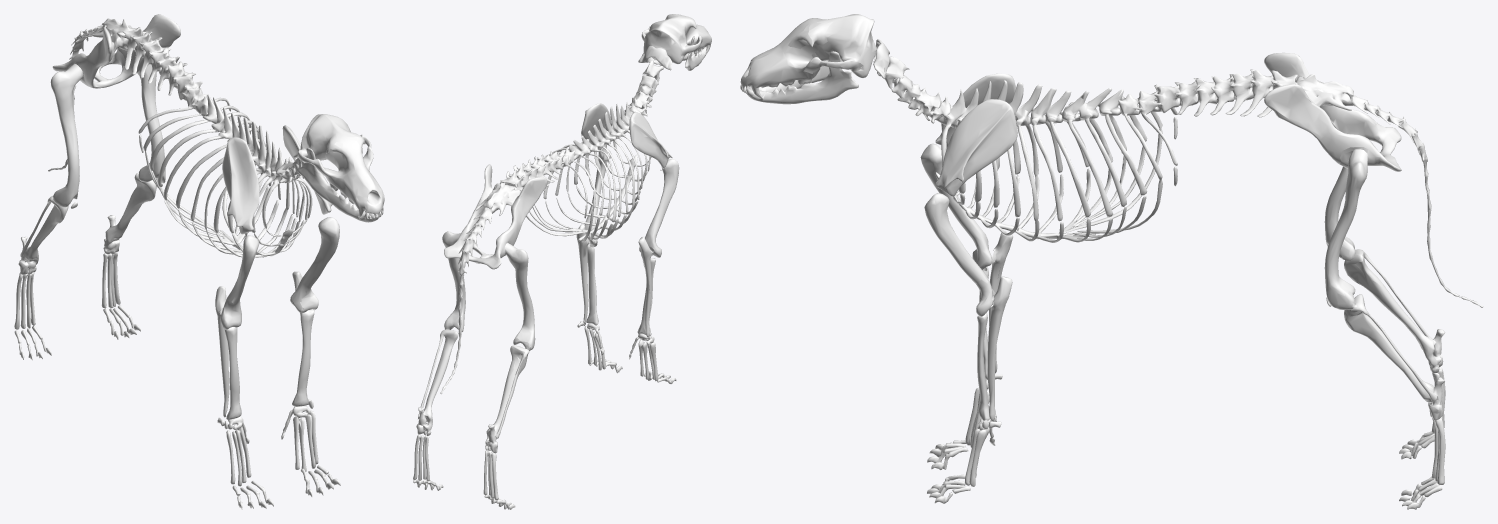
Rendered from Skeleton 1.glb.
The picture shows the model from 3 angles, left to right: view 1: azimuth 30°, elevation 25°; view 2: azimuth 150°, elevation 25°; view 3: azimuth 270°, elevation 25°; orthographic projection. The views are drawn at different scales.
Visible parts, largest first — view 1: Ribcage_and_Sternum, Cranium, Sacroiliac_Joint, Scapula_L, Thigh_Bone_Femur_L, Humerus_R, Thigh_Bone_Femur_R, Tibia_R, Humerus_L, Fibula_L, Radius_R, Radius_L (+8 smaller); view 2: Ribcage_and_Sternum, Sacroiliac_Joint, Cranium, Thigh_Bone_Femur_L, Tibia_R, Humerus_L, Scapula_L, Fibula_L, Sacrum, Thigh_Bone_Femur_R, Ulna_L, Radius_R (+7 smaller); view 3: Ribcage_and_Sternum, Cranium, Sacroiliac_Joint, Scapula_R, Thigh_Bone_Femur_R, Tibia_R, Fibula_L, Humerus_R, Humerus_L, Sacrum, Ulna_R, Scapula_L (+2 smaller).
Boxes of the visible parts, x1,y1,x2,y2 form: Ribcage_and_Sternum: (27,18,312,322); Cranium: (297,114,384,222); Sacroiliac_Joint: (52,14,180,88); Scapula_L: (222,137,259,234); Thigh_Bone_Femur_L: (50,63,83,207); Humerus_R: (290,217,339,312); Thigh_Bone_Femur_R: (137,64,165,183); Tibia_R: (37,172,157,254); Humerus_L: (220,235,259,329); Fibula_L: (18,196,68,274); Radius_R: (292,309,314,406); Radius_L: (224,327,241,419); Ribcage_and_Sternum: (427,75,658,485); Sacroiliac_Joint: (444,164,547,269); Cranium: (642,14,711,70); Thigh_Bone_Femur_L: (504,243,535,349); Tibia_R: (416,329,458,435); Humerus_L: (639,158,679,257); Scapula_L: (629,111,672,168); Fibula_L: (485,345,529,452); Sacrum: (440,207,491,394); Thigh_Bone_Femur_R: (442,231,465,331); Ulna_L: (638,236,653,337); Radius_R: (586,244,598,325); Ribcage_and_Sternum: (891,70,1483,485); Cranium: (740,14,876,104); Sacroiliac_Joint: (1264,52,1401,171); Scapula_R: (935,99,1017,196); Thigh_Bone_Femur_R: (1324,149,1368,307); Tibia_R: (1344,294,1444,419); Fibula_L: (1344,249,1444,372); Humerus_R: (924,193,995,314); Humerus_L: (920,143,992,269); Sacrum: (1352,95,1483,307); Ulna_R: (987,276,1012,421); Scapula_L: (935,73,1015,147).
Size of the model in its own units: 0.5303 by 1.77 by 2.57.
Materials: 1 (1 with a texture image).
